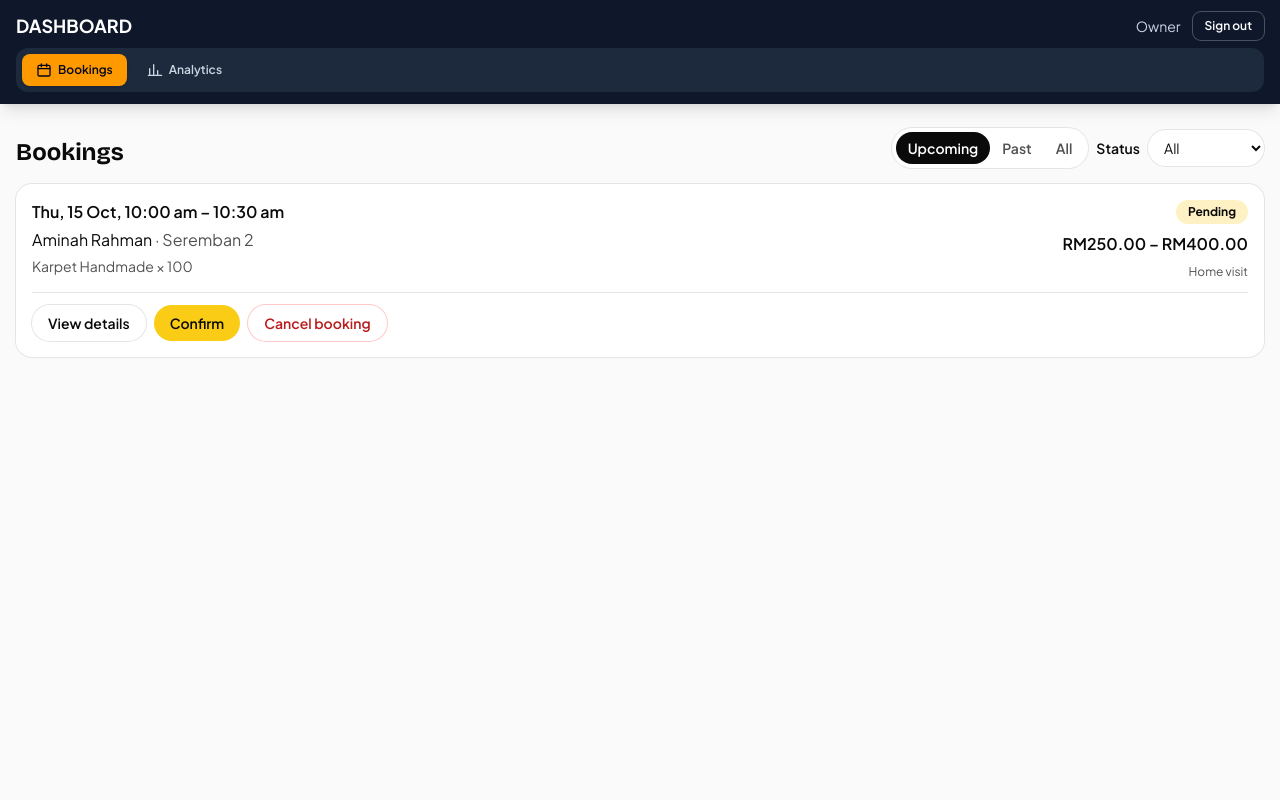
Test: bookings page › shows the customer, services and the chat with its sources
Click the button "View details" at (89, 323), box [32,305,146,341]
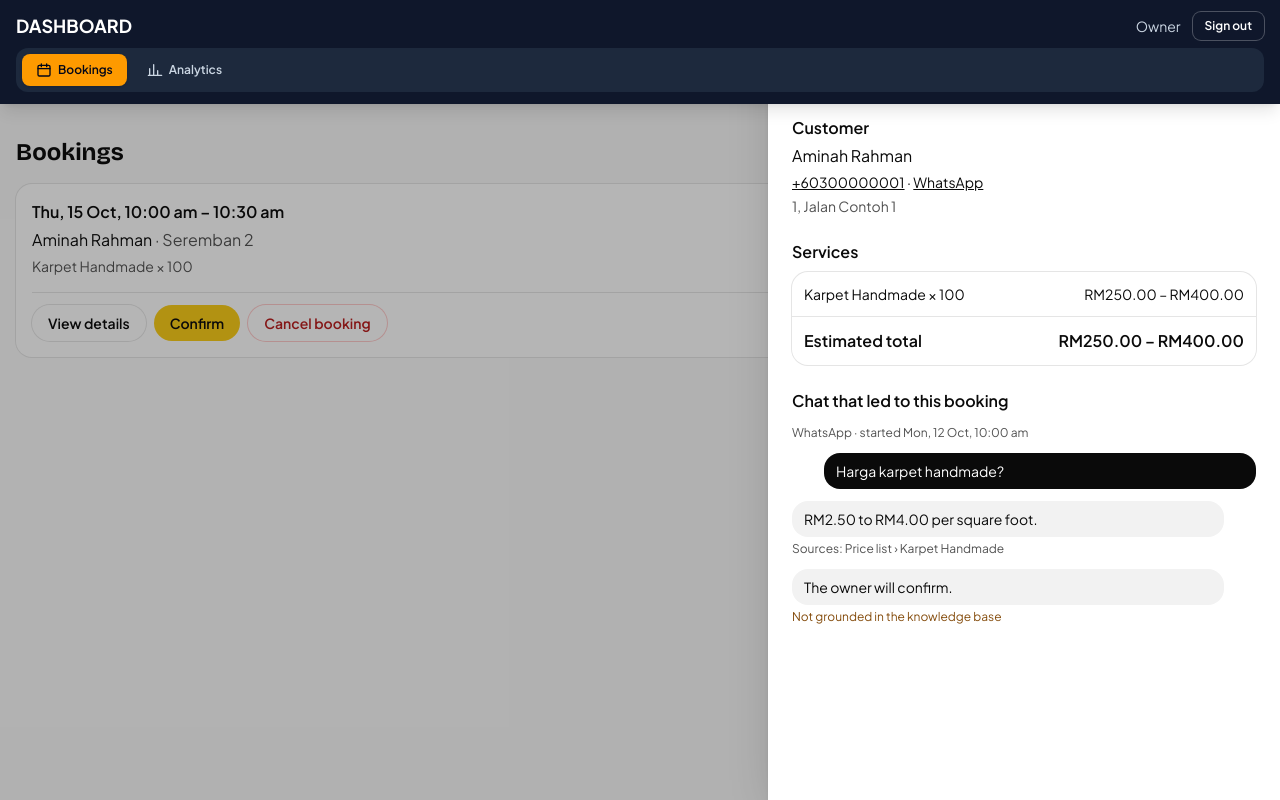
Expected: the text "1, Jalan Contoh 1" is shown, [792,197,896,215]
Expected: the text "Harga karpet handmade?" is shown, [824,453,1256,489]
Expected: the text "Sources: Price list › Karpet Handmade" is shown, [792,541,1004,556]
Press Escape
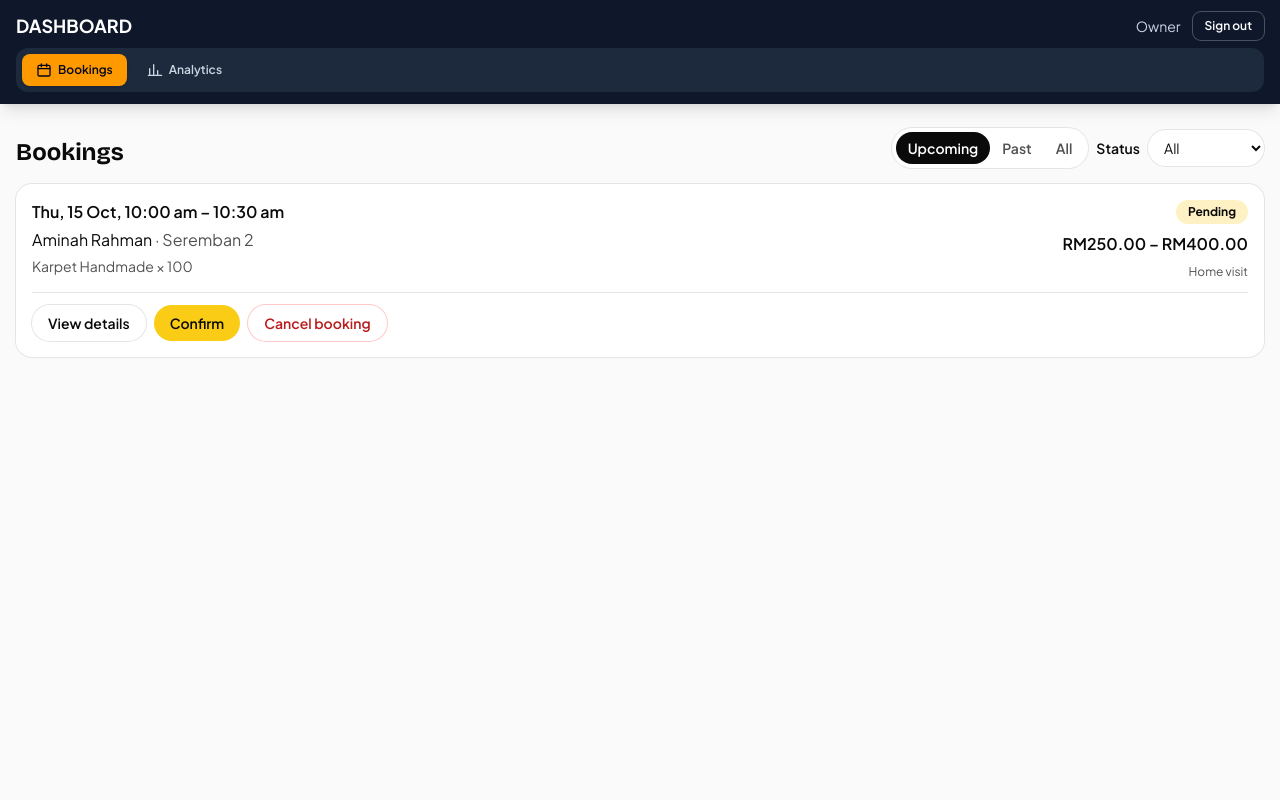
Expected: the dialog is gone
